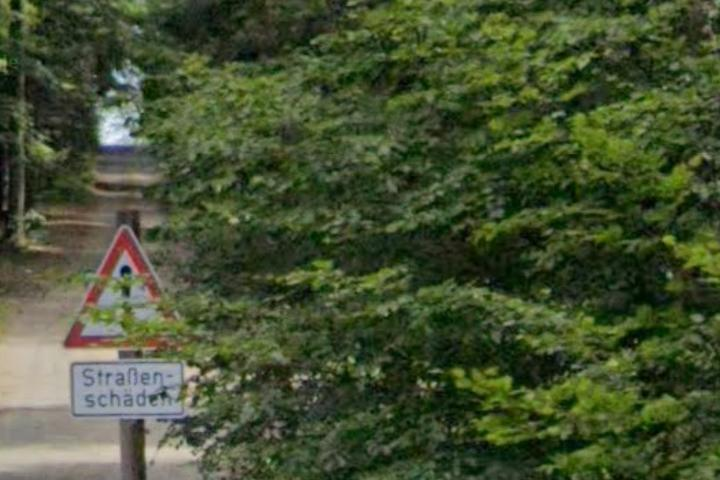traffic_sign: (59, 221, 191, 355)
